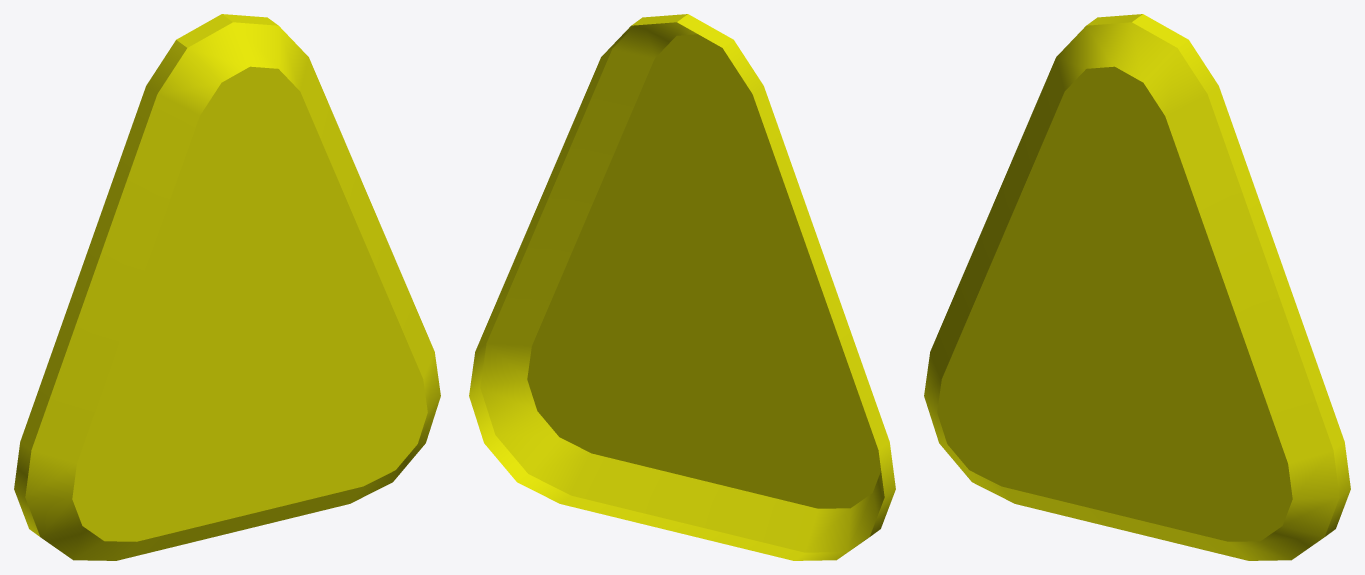
File: MOD_ElevatorButton.fbx
3 views of the same model, side by side, from view 1: azimuth 30°, elevation 25°; view 2: azimuth 150°, elevation 25°; view 3: azimuth 330°, elevation 25° (orthographic).
Visible parts, largest first — view 1: MOD_ElevatorButton; view 2: MOD_ElevatorButton; view 3: MOD_ElevatorButton.
Boxes of the visible parts, x1=… form: MOD_ElevatorButton: x1=14, y1=14, x2=440, y2=560; MOD_ElevatorButton: x1=469, y1=14, x2=895, y2=560; MOD_ElevatorButton: x1=924, y1=14, x2=1350, y2=560.
Size of the model in its own units: 6.57 by 7.71 by 0.7723.
